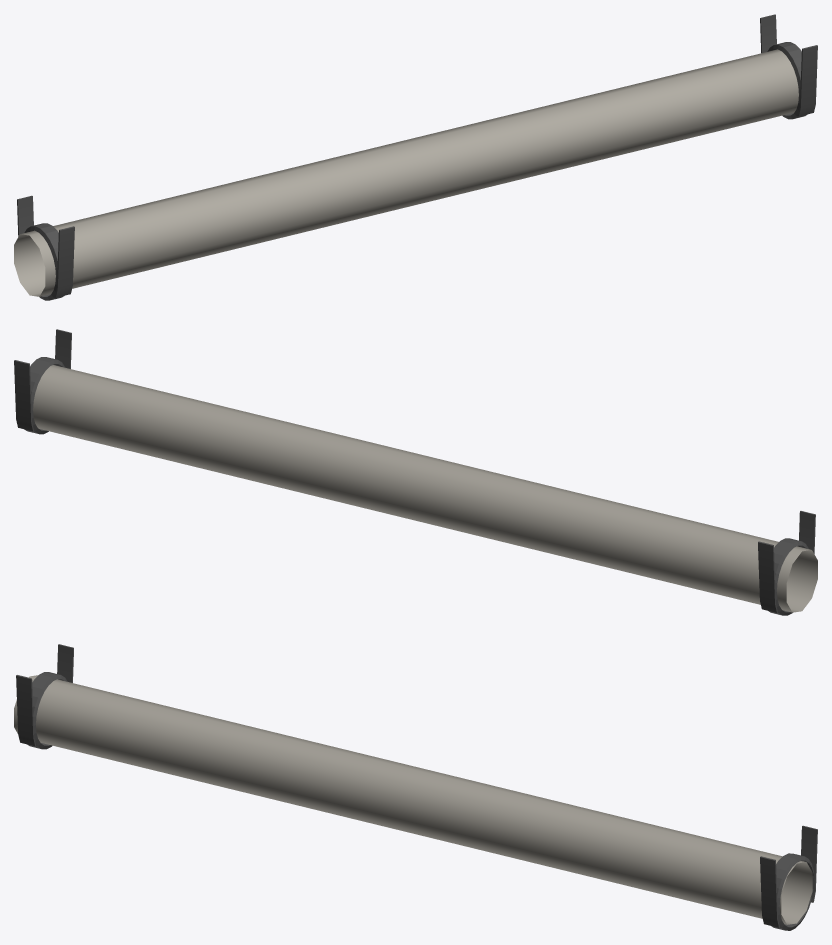
File: roof_pipe_01.fbx
3 views of the same model, one above another, from view 1: azimuth 30°, elevation 25°; view 2: azimuth 150°, elevation 25°; view 3: azimuth 330°, elevation 25° (orthographic).
Parts seen in each view (by area): view 1: roof_pipe_01; view 2: roof_pipe_01; view 3: roof_pipe_01.
Boxes of the visible parts, left/top/right/bottom form: roof_pipe_01: left=14, top=14, right=817, bottom=300; roof_pipe_01: left=14, top=329, right=817, bottom=615; roof_pipe_01: left=14, top=644, right=817, bottom=930.
Bounding box in the file's own units: 333 × 34.74 × 32.3.
